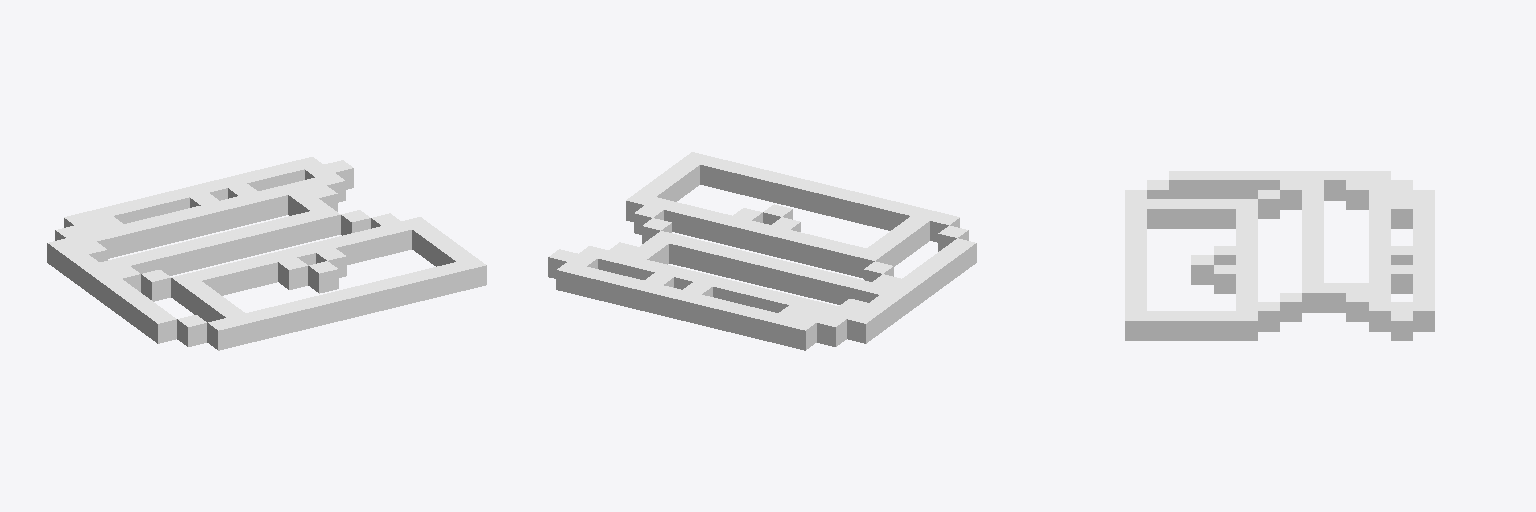
File: chest.obj
3 views of the same model, side by side, from view 1: azimuth 30°, elevation 25°; view 2: azimuth 150°, elevation 25°; view 3: azimuth 270°, elevation 25° (orthographic).
Bounding box in the file's own units: 16 × 1 × 14.